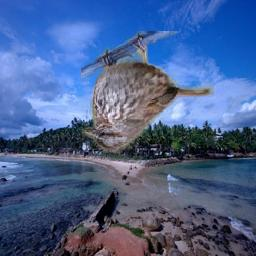Sparrow: (82, 32, 215, 155)
